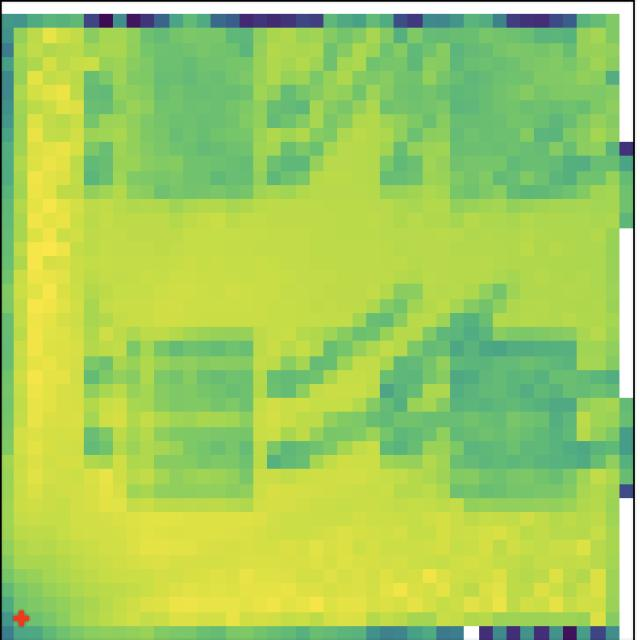Concrete: (113, 33, 257, 204)
Glass: (449, 314, 589, 514)
Metal: (127, 331, 255, 511)
Wood: (443, 41, 600, 205)
